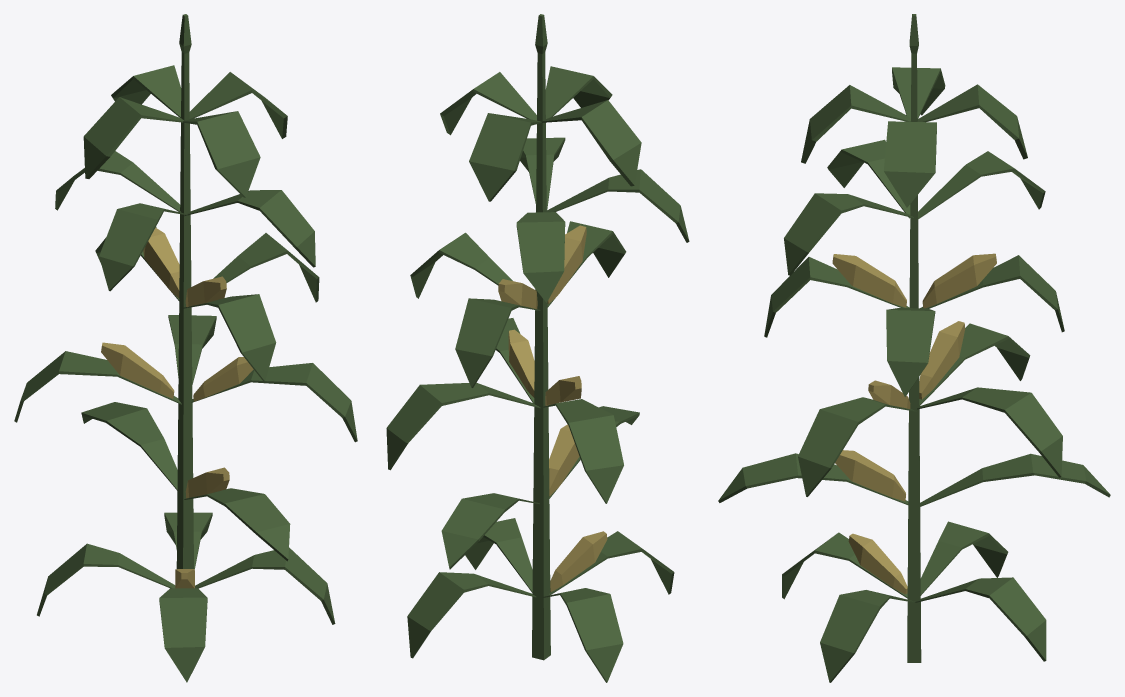
File: Corn_2.glb
3 views of the same model, side by side, from view 1: azimuth 30°, elevation 25°; view 2: azimuth 150°, elevation 25°; view 3: azimuth 270°, elevation 25° (orthographic).
Parts seen in each view (by area): view 1: Corn_2; view 2: Corn_2; view 3: Corn_2.
Boxes of the visible parts, left/top/right/bottom form: Corn_2: left=14, top=14, right=357, bottom=682; Corn_2: left=386, top=14, right=689, bottom=682; Corn_2: left=718, top=14, right=1110, bottom=682.
Bounding box in the file's own units: 0.3295 × 0.7936 × 0.4379.
